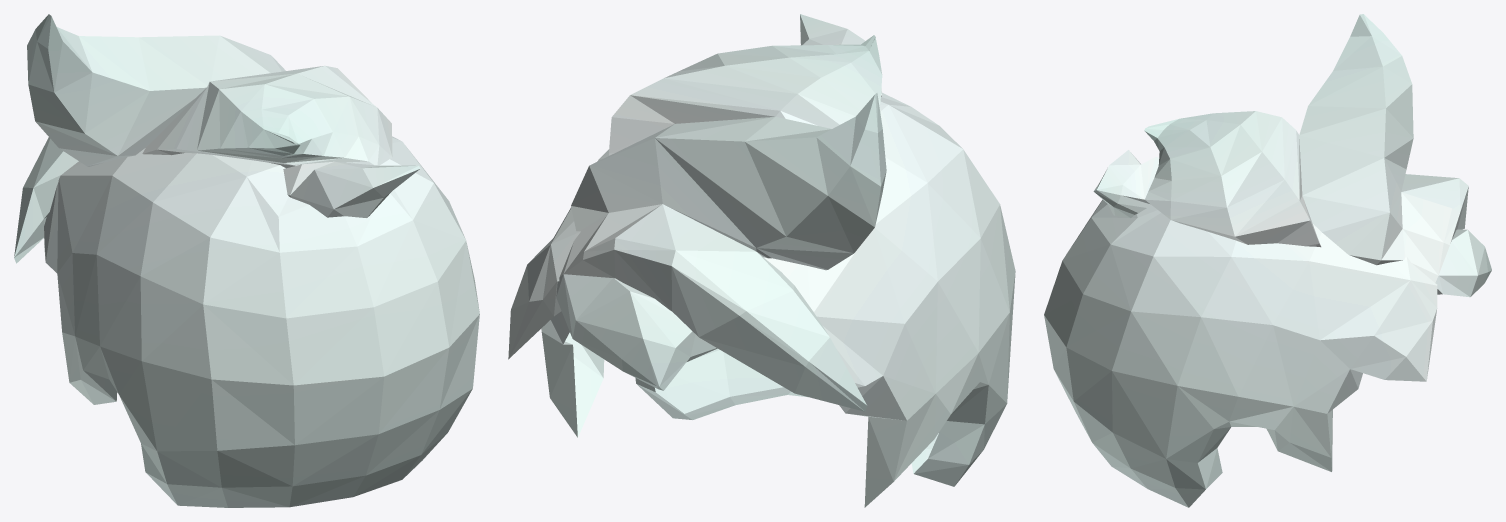
File: CharSkyKid_Hair_TopSharp.glb
The picture shows the model from 3 angles, left to right: view 1: azimuth 30°, elevation 25°; view 2: azimuth 150°, elevation 25°; view 3: azimuth 270°, elevation 25°; orthographic projection. The views are drawn at different scales.
Visible parts, largest first — view 1: CharSkyKid_Hair_TopSharp; view 2: CharSkyKid_Hair_TopSharp; view 3: CharSkyKid_Hair_TopSharp.
Part boxes in pixels (bbox=[...]): CharSkyKid_Hair_TopSharp: bbox=[14, 14, 479, 507]; CharSkyKid_Hair_TopSharp: bbox=[508, 14, 1015, 507]; CharSkyKid_Hair_TopSharp: bbox=[1044, 14, 1491, 507].
Bounding box in the file's own units: 2.29 × 2.68 × 2.9.
1 material, 1 textured.
